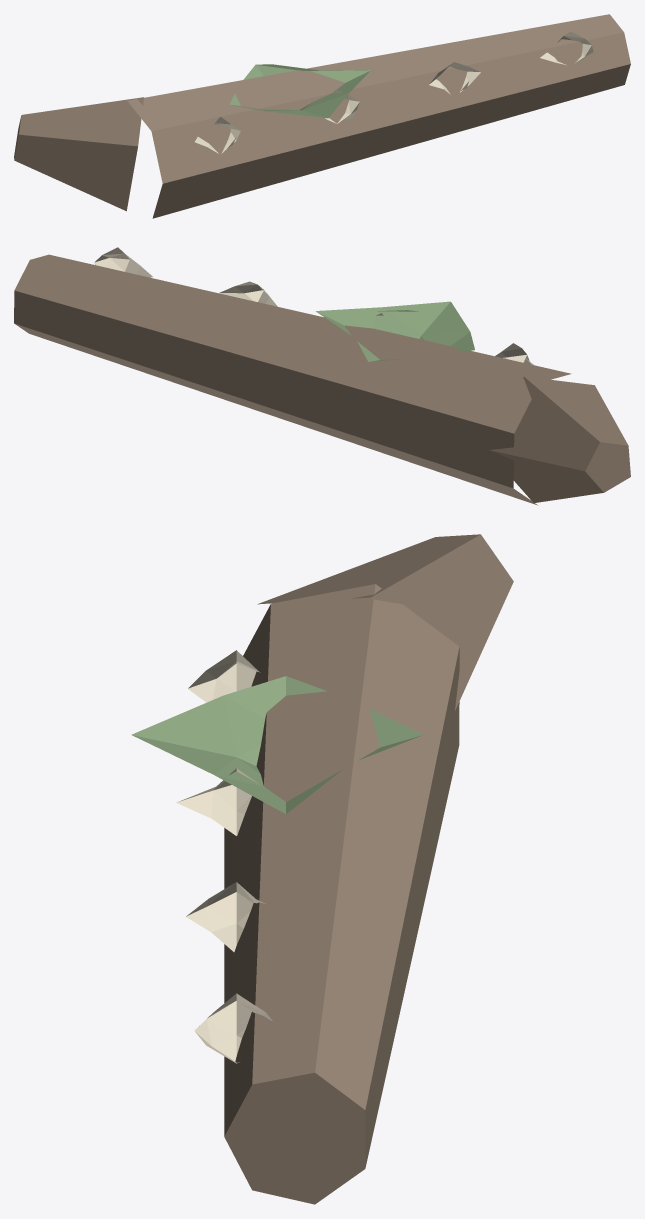
The model's file is log_v26.glb.
3 views of the same model, one above another, from view 1: azimuth 30°, elevation 25°; view 2: azimuth 150°, elevation 25°; view 3: azimuth 270°, elevation 25° (orthographic). The views are drawn at different scales.
Visible parts, largest first — view 1: lod0; view 2: lod0; view 3: lod0.
Boxes of the visible parts, box(x1,y1,x2,y2) form: lod0: box(14, 14, 630, 218); lod0: box(14, 247, 630, 505); lod0: box(131, 534, 513, 1204).
Size of what is drawn, in the model's own units: 2.95 by 0.6145 by 0.8654.
